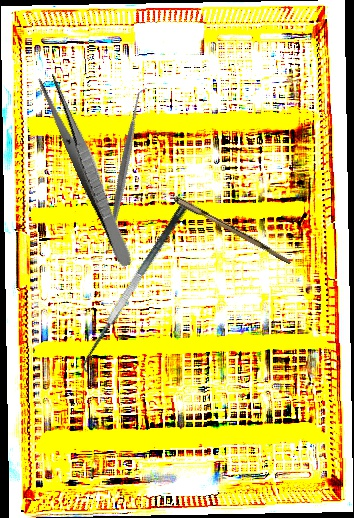Dressing Forceps: (35, 70, 140, 270)
Spatula Surgical: (40, 86, 208, 256), (71, 201, 203, 378)
Surgical Spoon: (131, 173, 294, 265)
